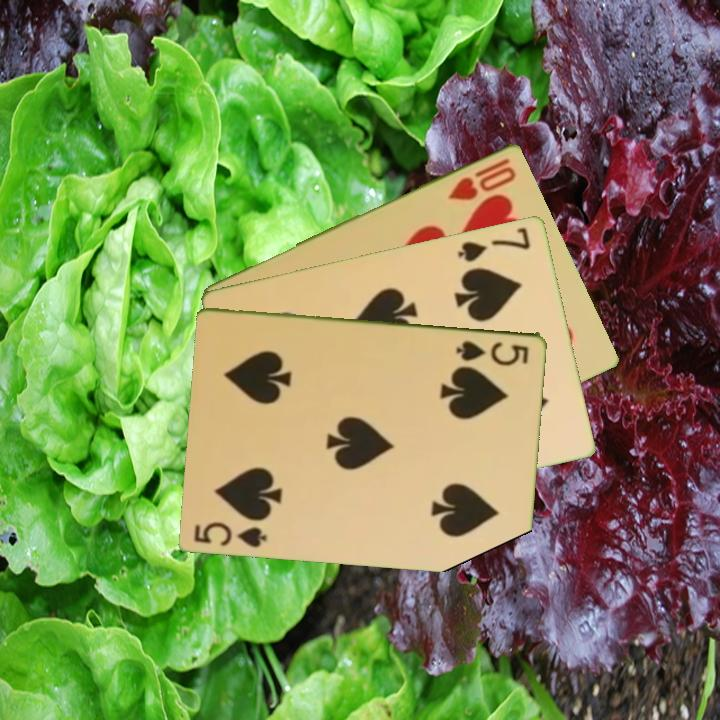10h: (445, 153, 520, 203)
5s: (191, 518, 271, 550), (453, 336, 532, 367)
7s: (454, 223, 534, 265)
